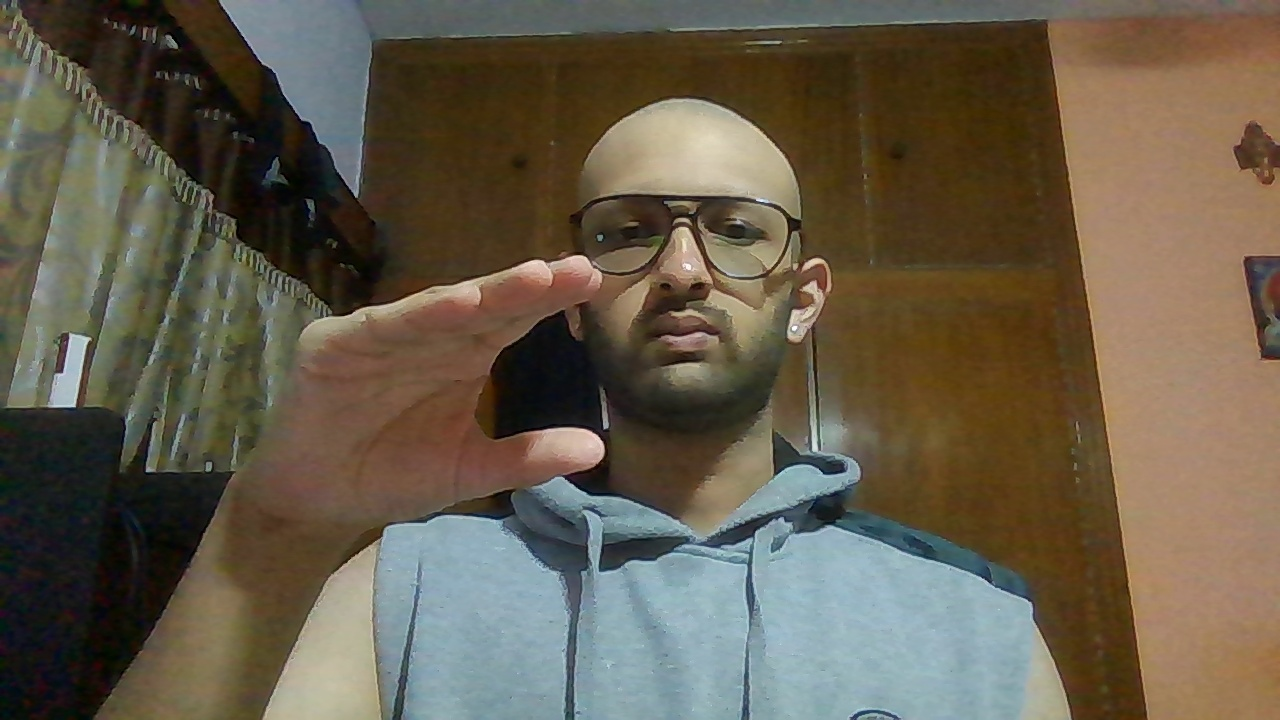No: (246, 255, 612, 540)
